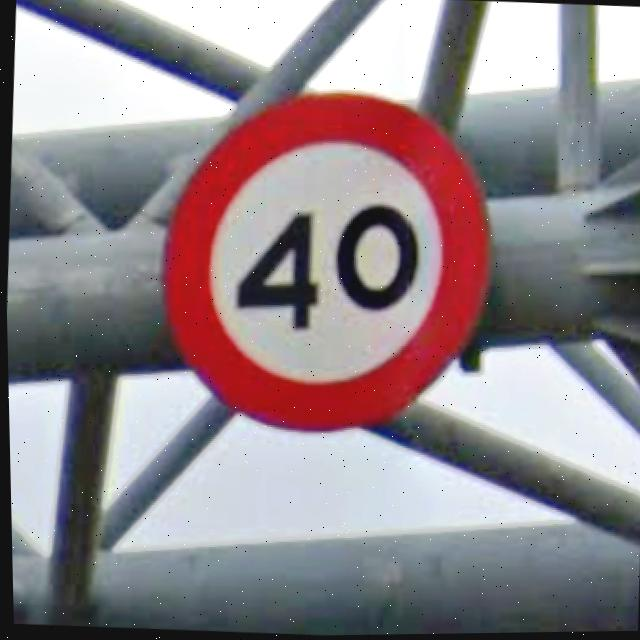max40: (146, 76, 503, 447)
